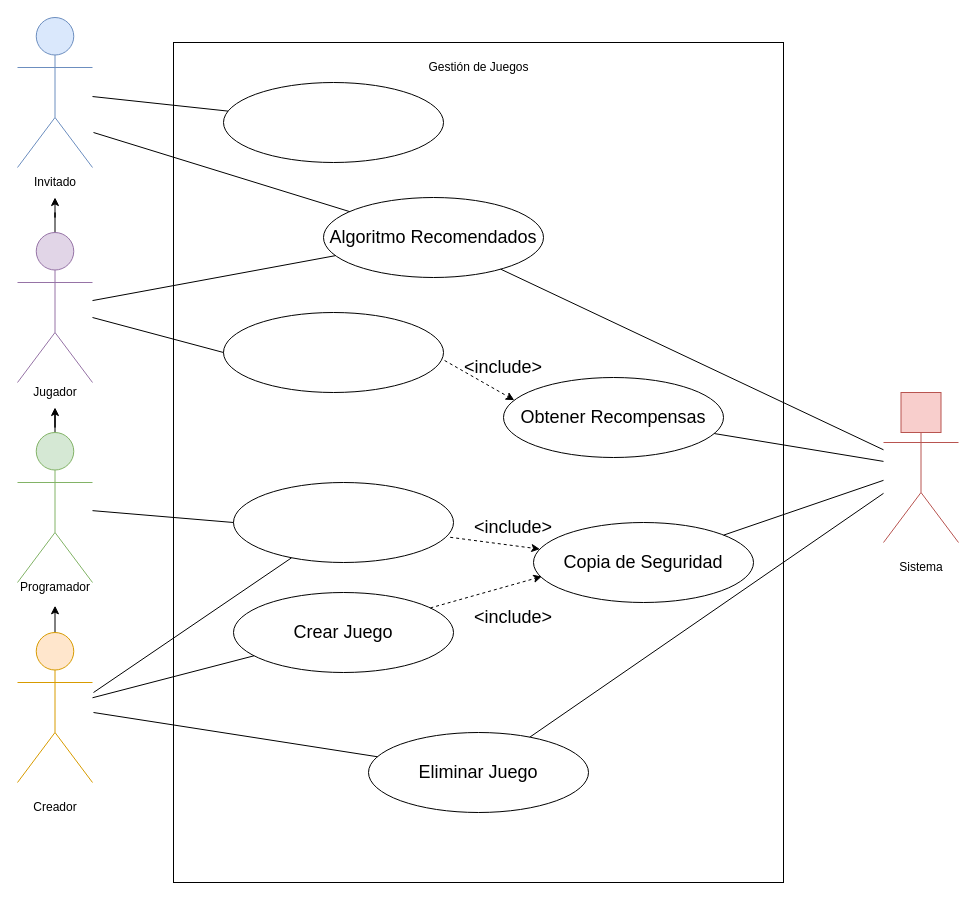
This 976x900 diagram has some shape labels left out. The centre of each missing label's shape, as x and y in pixels:
Jugar (Invitado): point (333, 122)
Jugar (Registrado): point (333, 352)
Modificar Juego: point (343, 522)
